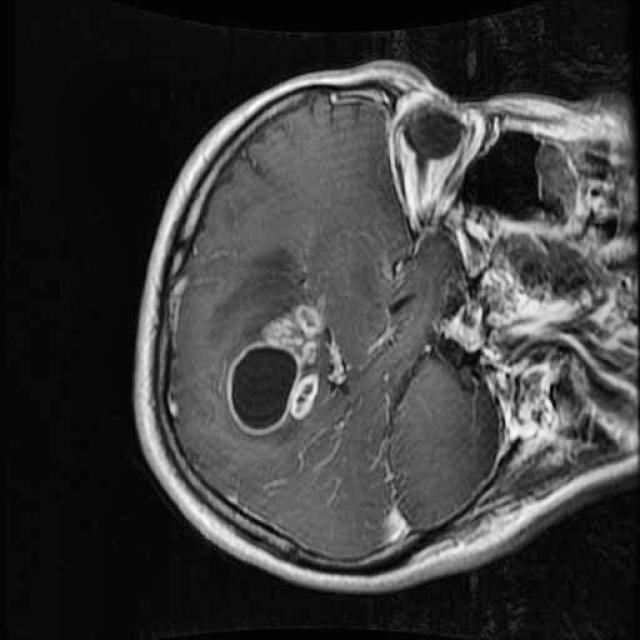Tumor: (213, 284, 338, 444)
